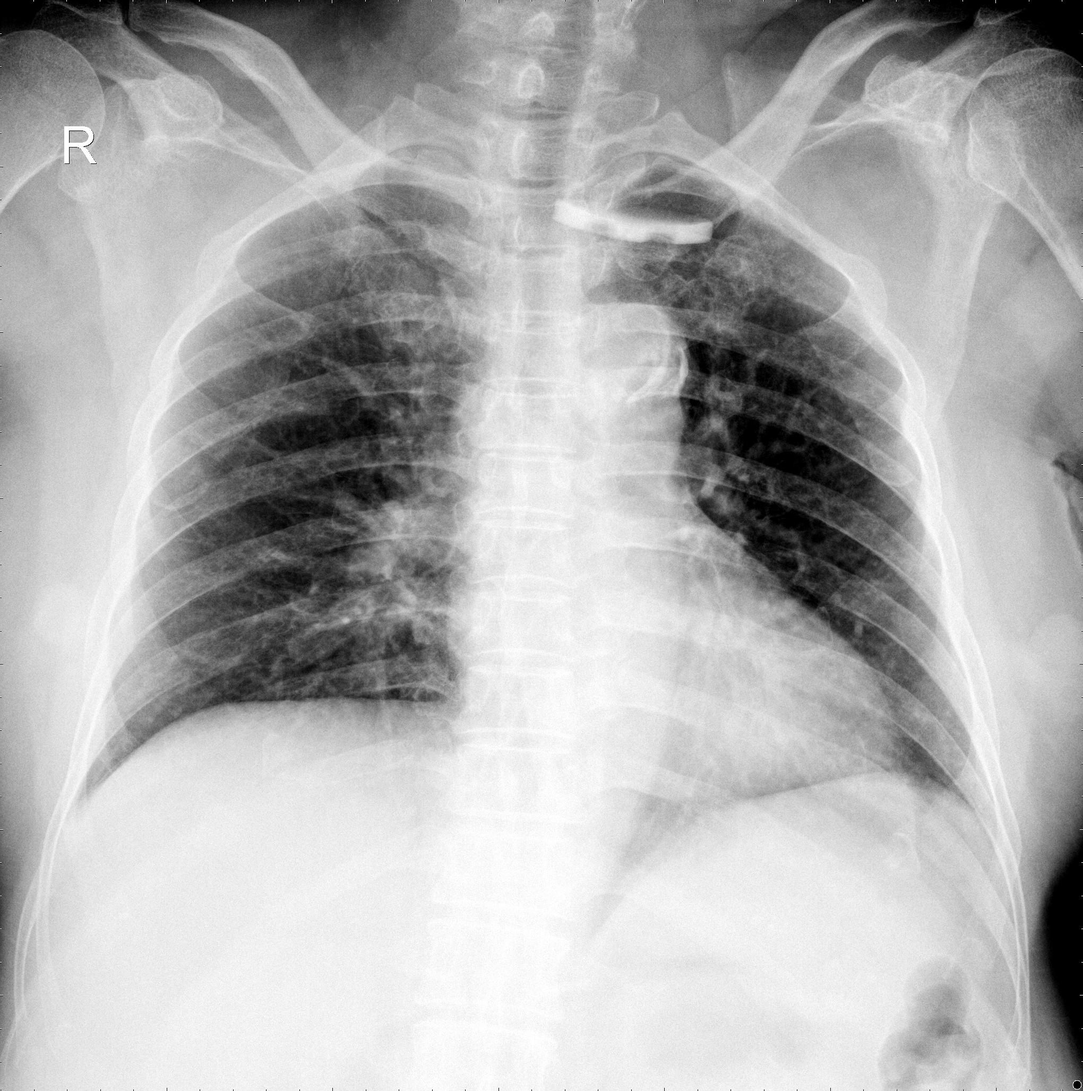Aortic enlargement: (554, 304, 688, 453)
